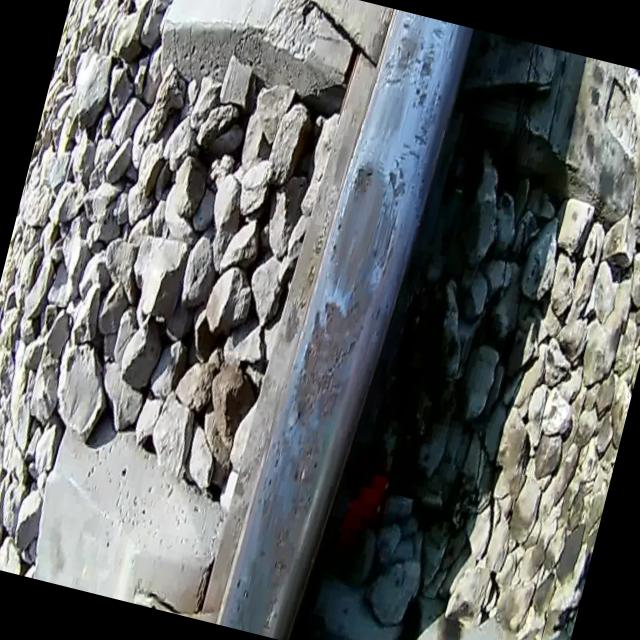Spallings: (278, 286, 374, 438)
Squats: (230, 138, 418, 618), (360, 8, 465, 150)
